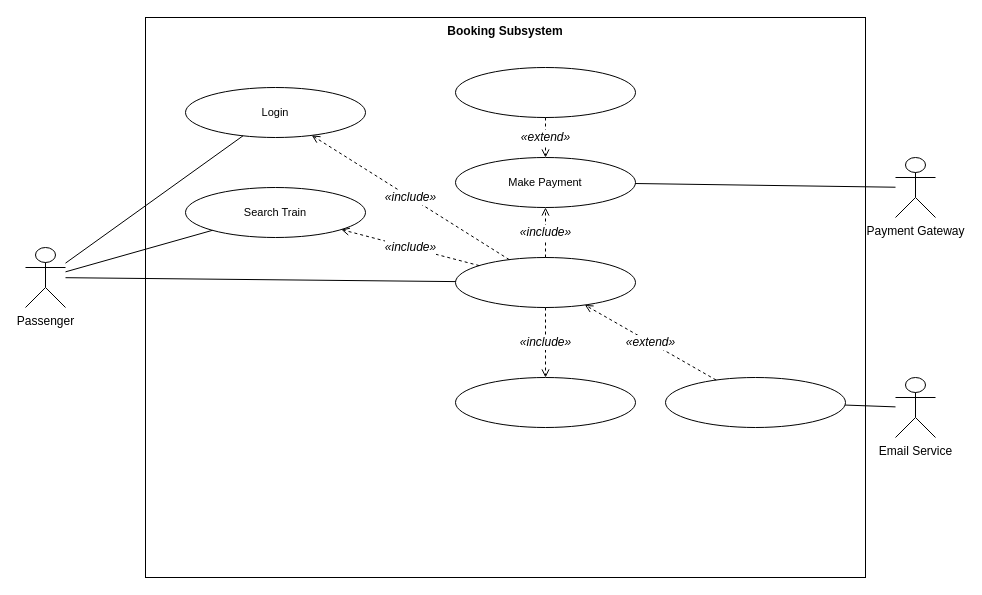
The diagram is 982 pixels wide and 595 high, and some of its shapes have lost their labels. The shapes that lost their labels are listed below. From the top down, each one's centre as x and y in pixels, then its label:
(545,92): Apply Discount Coupon
(545,282): Book Ticket
(545,402): Generate E-Ticket
(755,402): Send Confirmation Email
